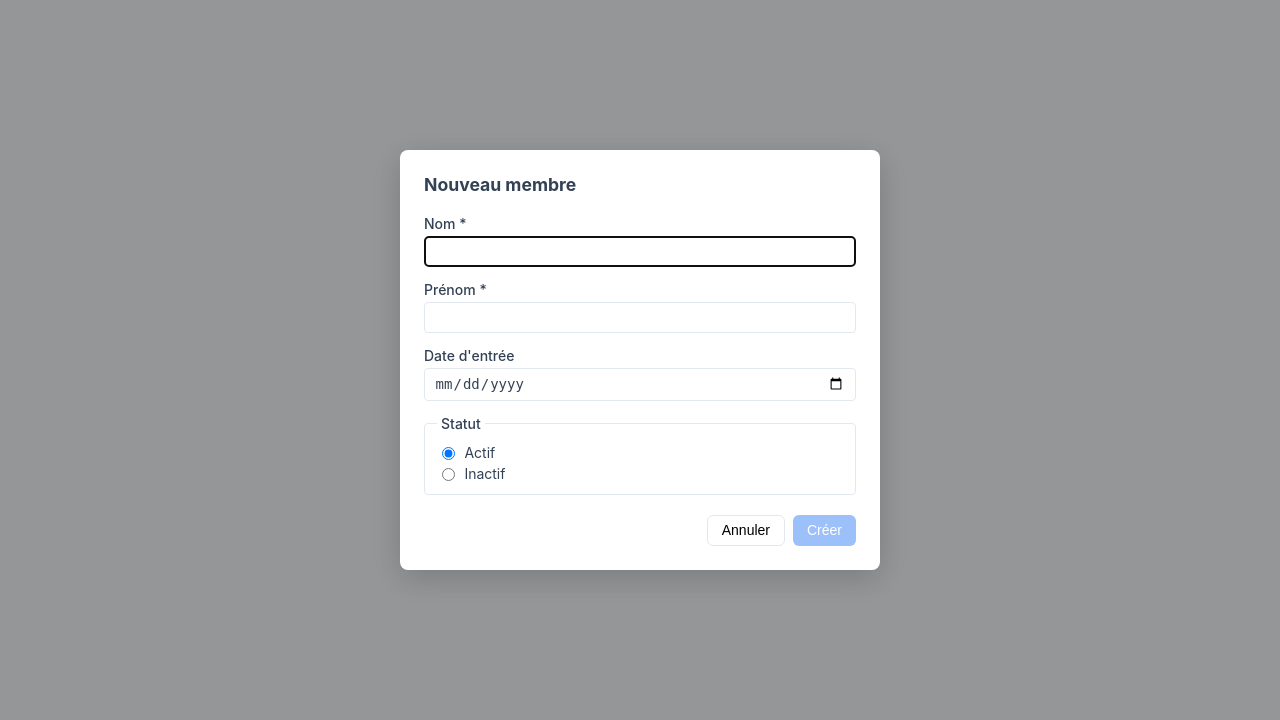
Test case: MembreFormModal — création › note visible uniquement si statut inactif
The width and height of the screenshot is (1280, 720).
Expected: the field labelled "note" is not shown
Click the radio button labelled "Inactif": click(448, 475) [442, 468, 455, 481]
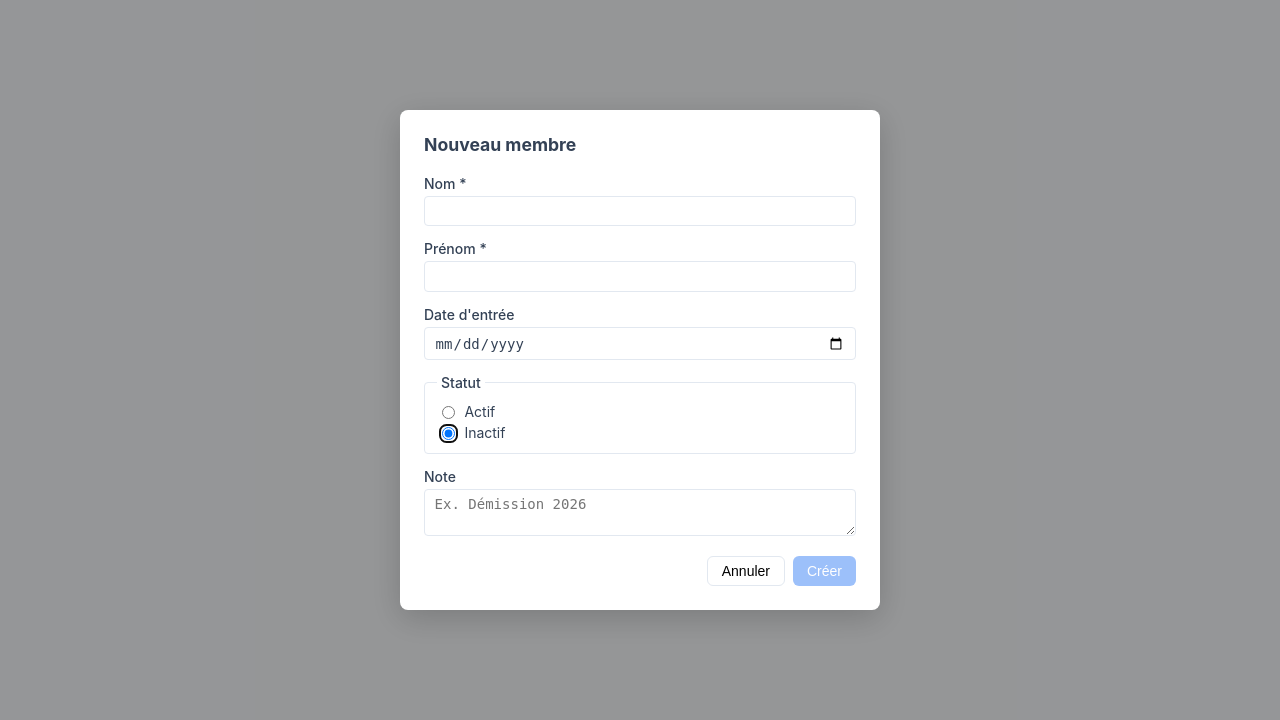
Expected: the text box labelled "Note" is shown, [424, 489, 856, 536]
